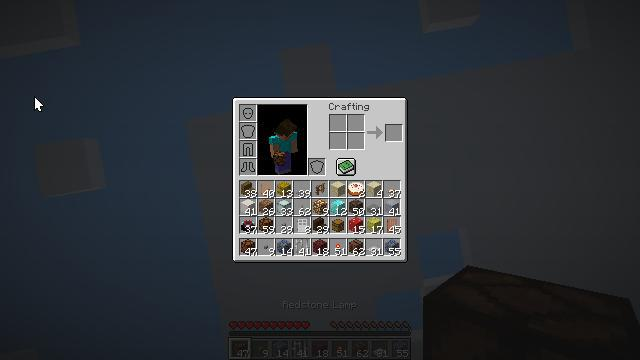cursor: (96, 34, 112, 44)
